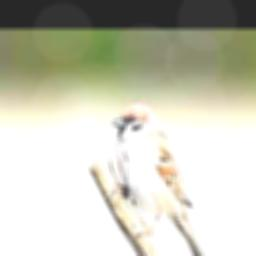Sparrow: (112, 101, 205, 256)
